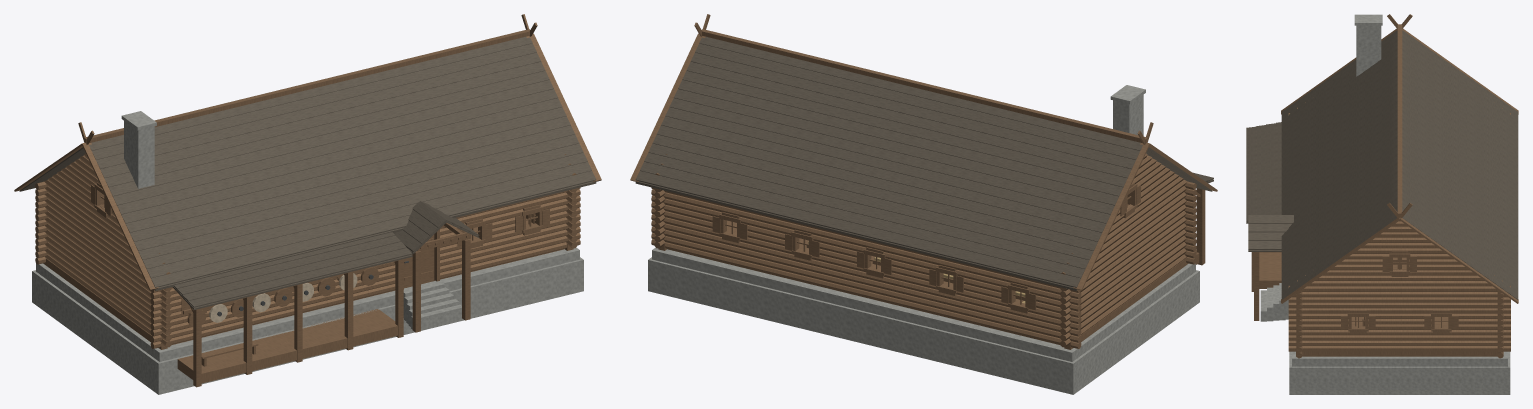
The picture shows the model from 3 angles, left to right: view 1: azimuth 30°, elevation 25°; view 2: azimuth 150°, elevation 25°; view 3: azimuth 270°, elevation 25°; orthographic projection. The views are drawn at different scales.
Parts seen in each view (by area): view 1: K01_roof, K01_foundation, K01_shell, K01_gable, K01_frame, K01_canopy_deck, K01_canopy, K01_flue, K01_porch, K01_shield, K01_shield.002, K01_floor (+2 smaller); view 2: K01_roof, K01_foundation, K01_shell, K01_gable, K01_frame, K01_shutter, K01_flue, K01_floor, K01_canopy; view 3: K01_roof, K01_gable, K01_foundation, K01_frame, K01_shell, K01_flue, K01_floor, K01_canopy_deck, K01_shutter, K01_porch.
Part boxes in pixels (x1,y1,x2,y2): K01_roof: [19, 36, 596, 309]; K01_foundation: [32, 247, 583, 394]; K01_shell: [35, 181, 580, 349]; K01_gable: [44, 144, 577, 347]; K01_frame: [14, 14, 601, 313]; K01_canopy_deck: [177, 309, 397, 383]; K01_canopy: [190, 259, 404, 387]; K01_flue: [121, 111, 156, 188]; K01_porch: [412, 223, 470, 332]; K01_shield: [187, 267, 378, 327]; K01_shield.002: [209, 273, 357, 322]; K01_floor: [44, 218, 564, 347]; K01_roof: [635, 36, 1213, 290]; K01_foundation: [648, 247, 1199, 394]; K01_shell: [651, 181, 1196, 349]; K01_gable: [654, 144, 1187, 347]; K01_frame: [630, 14, 1217, 313]; K01_shutter: [712, 184, 1140, 310]; K01_flue: [1110, 85, 1145, 135]; K01_floor: [667, 220, 1187, 344]; K01_canopy: [1196, 188, 1205, 265]; K01_roof: [1246, 30, 1518, 299]; K01_gable: [1288, 102, 1510, 351]; K01_foundation: [1260, 283, 1510, 394]; K01_frame: [1281, 14, 1518, 334]; K01_shell: [1296, 290, 1503, 358]; K01_flue: [1354, 14, 1382, 76]; K01_floor: [1302, 257, 1497, 356]; K01_canopy_deck: [1259, 252, 1281, 288]; K01_shutter: [1341, 256, 1458, 329]; K01_porch: [1254, 252, 1281, 320].
Bounding box in the file's own units: 21.9 × 10.95 × 13.12.
Materials: 6 (5 with a texture image).
